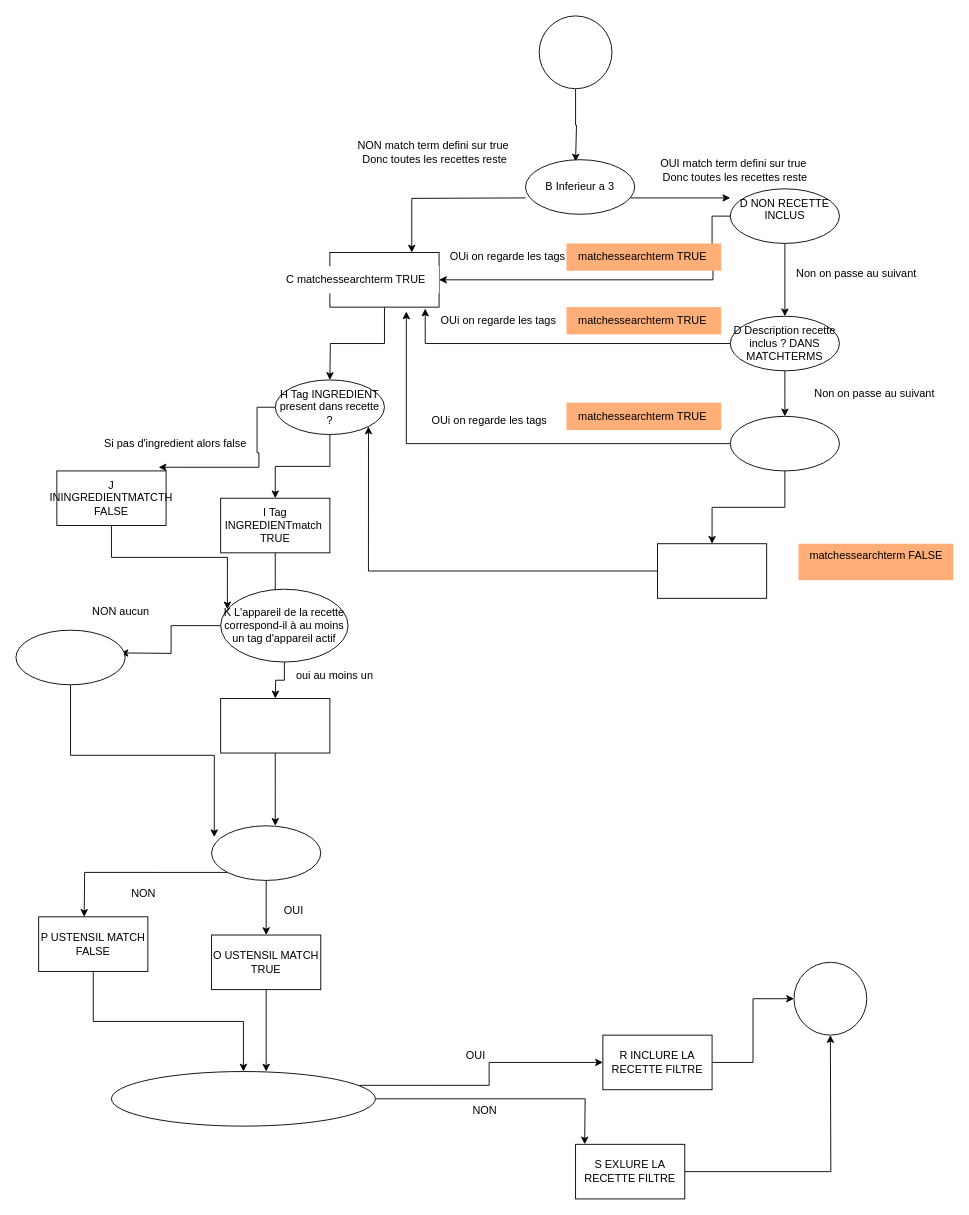
This 969x1215 diagram has some shape labels left out. The centre of each missing label's shape, as x and y in pixels:
A START: [575,52]
D Ingredient est il inclu ? DANS MATCHTERM: [784,443]
FIN: [830,998]
G RECHECHE INFRUTUEUS: [712,570]
L Tag appliancemarch True: [275,725]
M APPLIANCE MATCH = FALSE: [70,657]
N Tag ustensil present dans recette ?: [266,852]
Q matchesSearchTerm, ingredientMatch, applianceMatch et utensilMatch TRUE ?: [243,1098]
